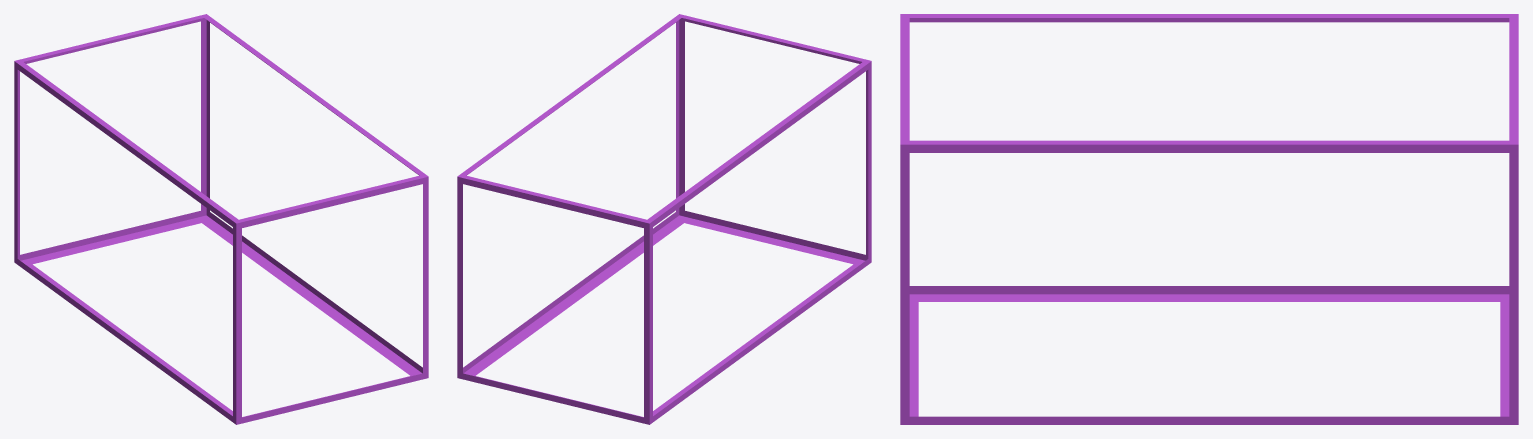
The model's file is fure-mu_2.obj.
3 renders of one model, left to right at view 1: azimuth 30°, elevation 25°; view 2: azimuth 150°, elevation 25°; view 3: azimuth 270°, elevation 25°, orthographic. The views are drawn at different scales.
Parts seen in each view (by area): view 1: Box001; view 2: Box001; view 3: Box001.
Part boxes in pixels (bbox=[...]): Box001: bbox=[14, 14, 428, 424]; Box001: bbox=[457, 14, 871, 424]; Box001: bbox=[900, 14, 1518, 424].
Size of the model in its own units: 1000 by 1000 by 2000.
